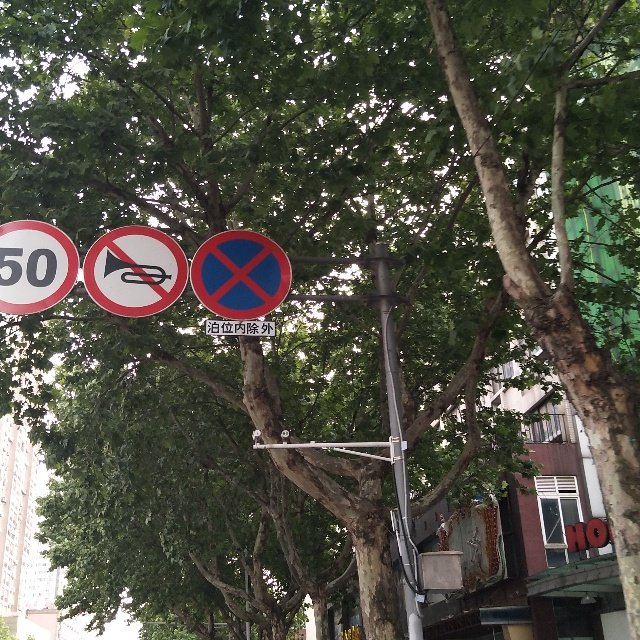nohonk: (90, 227, 180, 307)
stop: (192, 229, 286, 314)
